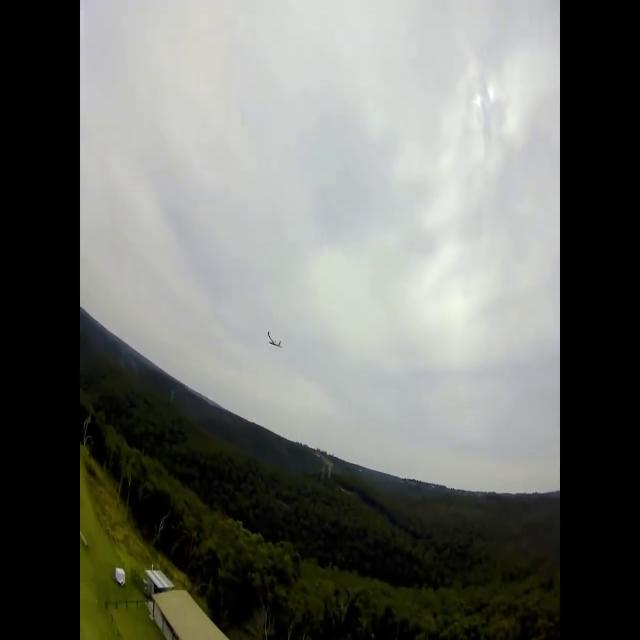iha: (268, 332, 281, 346)
